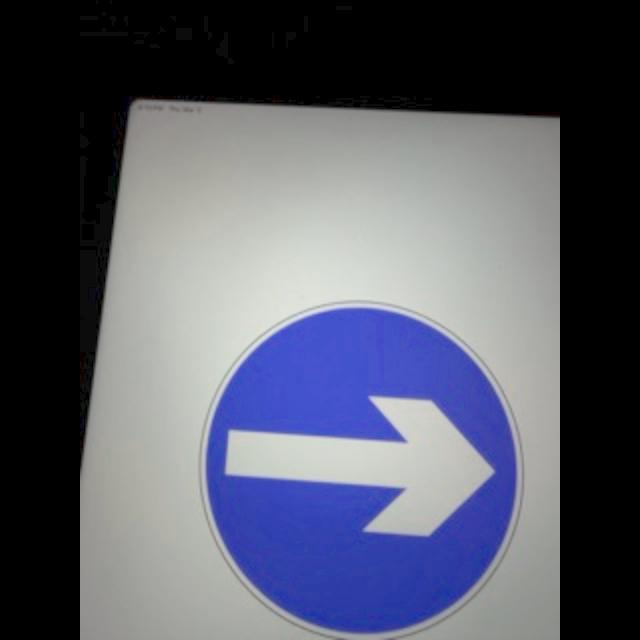TURN RIGHT: (199, 296, 525, 640)
